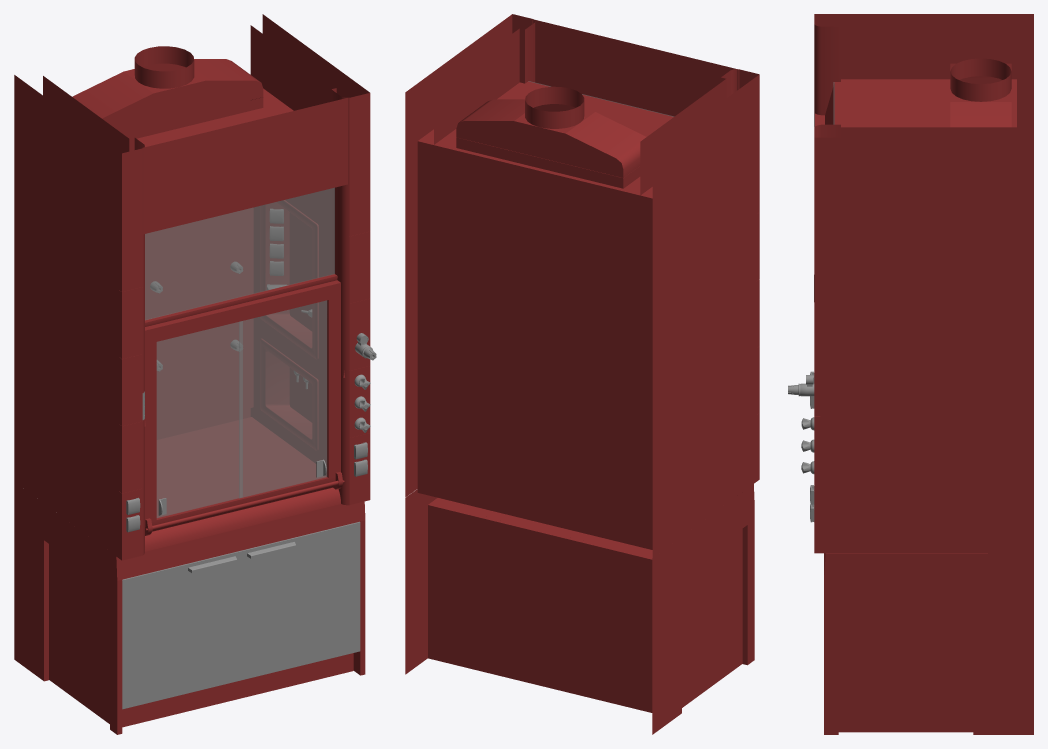
The model's file is SM_FumeHood_LOD0.FBX.
3 renders of one model, left to right at view 1: azimuth 30°, elevation 25°; view 2: azimuth 150°, elevation 25°; view 3: azimuth 270°, elevation 25°, orthographic. The views are drawn at different scales.
Parts seen in each view (by area): view 1: FumeHood, Window_Top, Cupboard_Door_Left, Cupboard_Door_Right, Window_Right, Window_Left, FumeHood_Door; view 2: FumeHood; view 3: FumeHood.
Part boxes in pixels (x1=…): FumeHood: x1=14, y1=14, x2=376, y2=734; Window_Top: x1=145, y1=187, x2=334, y2=320; Cupboard_Door_Left: x1=122, y1=551, x2=241, y2=709; Cupboard_Door_Right: x1=241, y1=521, x2=360, y2=680; Window_Right: x1=239, y1=300, x2=327, y2=498; Window_Left: x1=156, y1=321, x2=242, y2=517; FumeHood_Door: x1=145, y1=280, x2=344, y2=535; FumeHood: x1=405, y1=14, x2=759, y2=734; FumeHood: x1=788, y1=14, x2=1033, y2=734.
Bounding box in the file's own units: 1.2 × 2.72 × 1.01.
